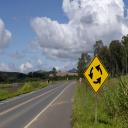Rotatoria: (80, 54, 112, 96)
